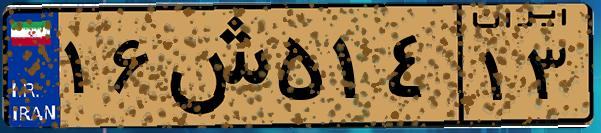1: (330, 28, 385, 110), (57, 26, 110, 100), (475, 38, 525, 113)
3: (525, 38, 570, 115)
4: (385, 28, 445, 110)
5: (270, 28, 330, 110)
6: (110, 28, 158, 98)
ش: (158, 12, 270, 120)
